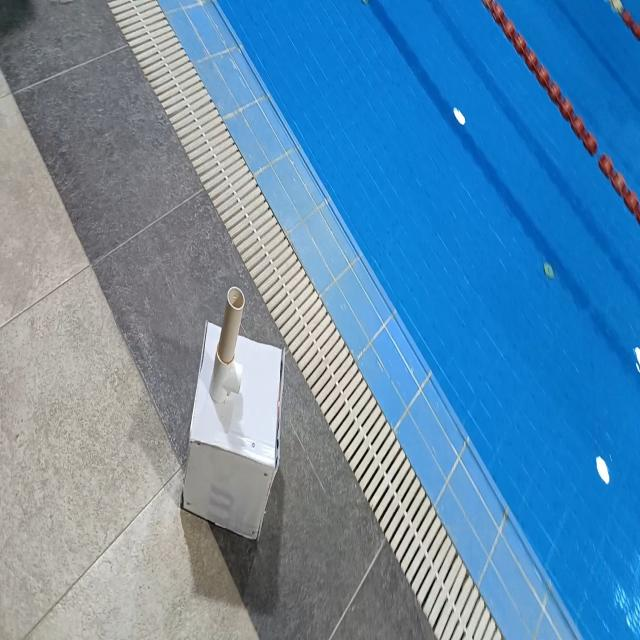Cube: (181, 317, 284, 542)
